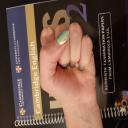Fist: (38, 22, 101, 108)
